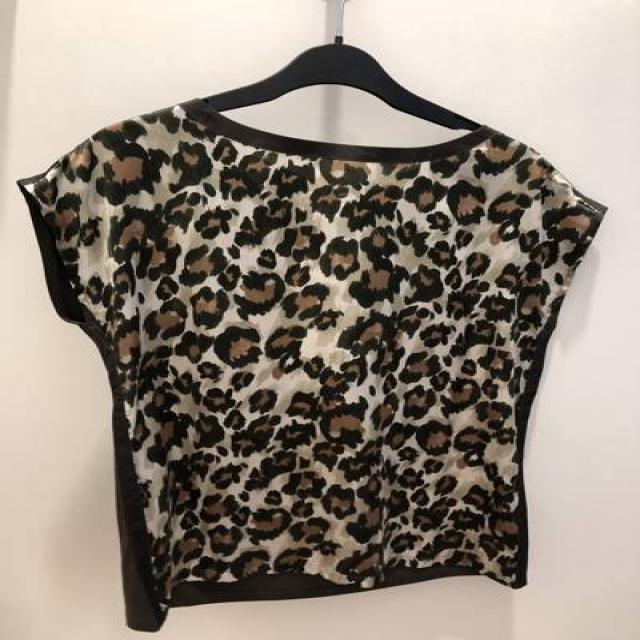Clothes -Biodegradable-: (19, 99, 606, 630)
